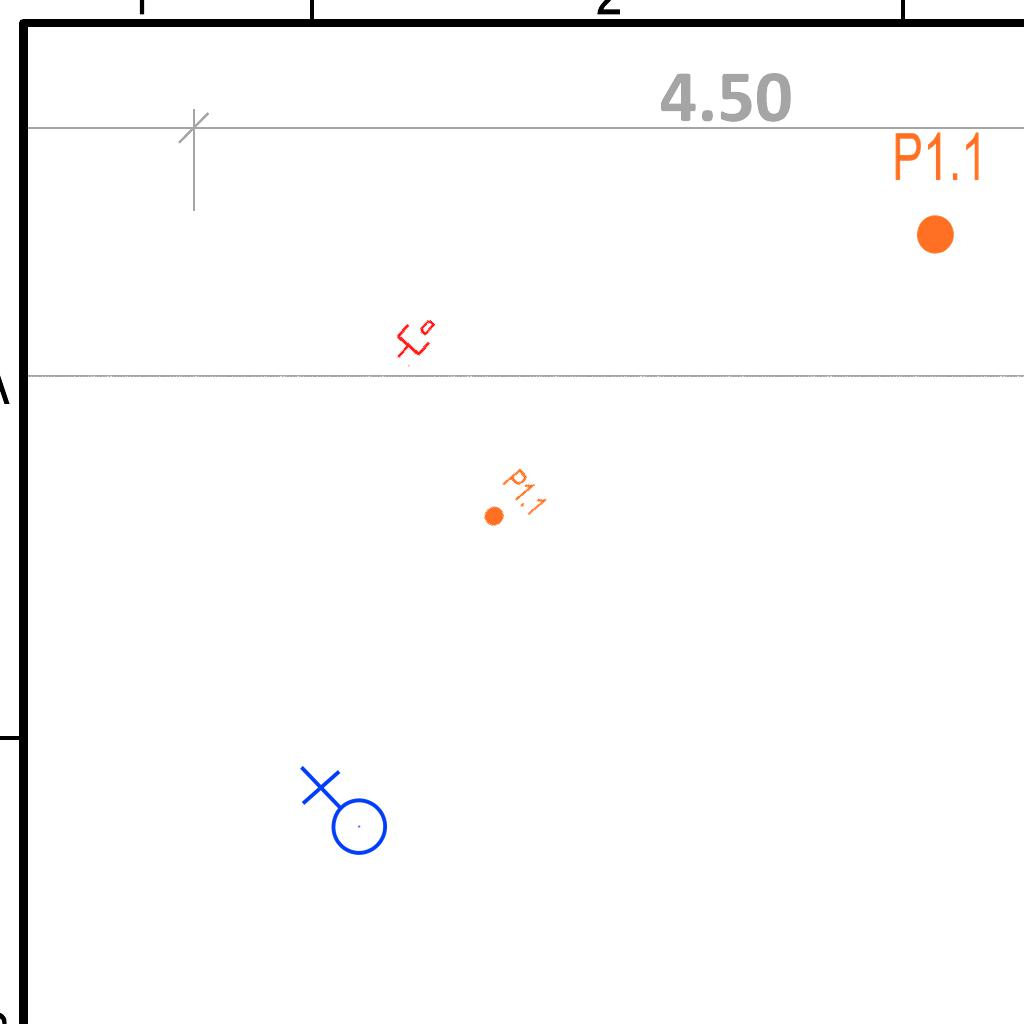Datenanschluss_einfach: (384, 308, 444, 370)
Downlight_LED_Einbauleuchten_Flur: (892, 129, 985, 257), (471, 465, 551, 543)
Elektroanschluss_allgemein_230V_Geraeteanschlussdose_230V: (295, 765, 389, 864)
